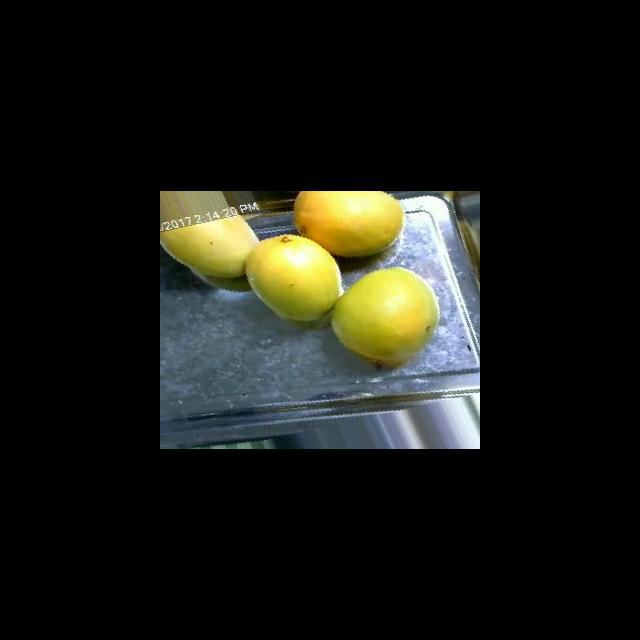mango: (330, 266, 440, 368), (244, 233, 343, 322), (293, 191, 404, 257), (160, 215, 261, 279)
